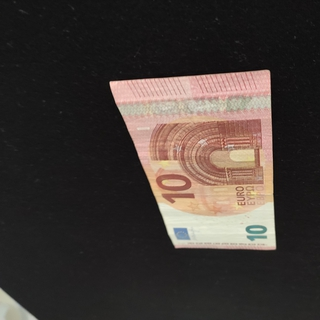10EUROFront: (109, 68, 278, 252)
